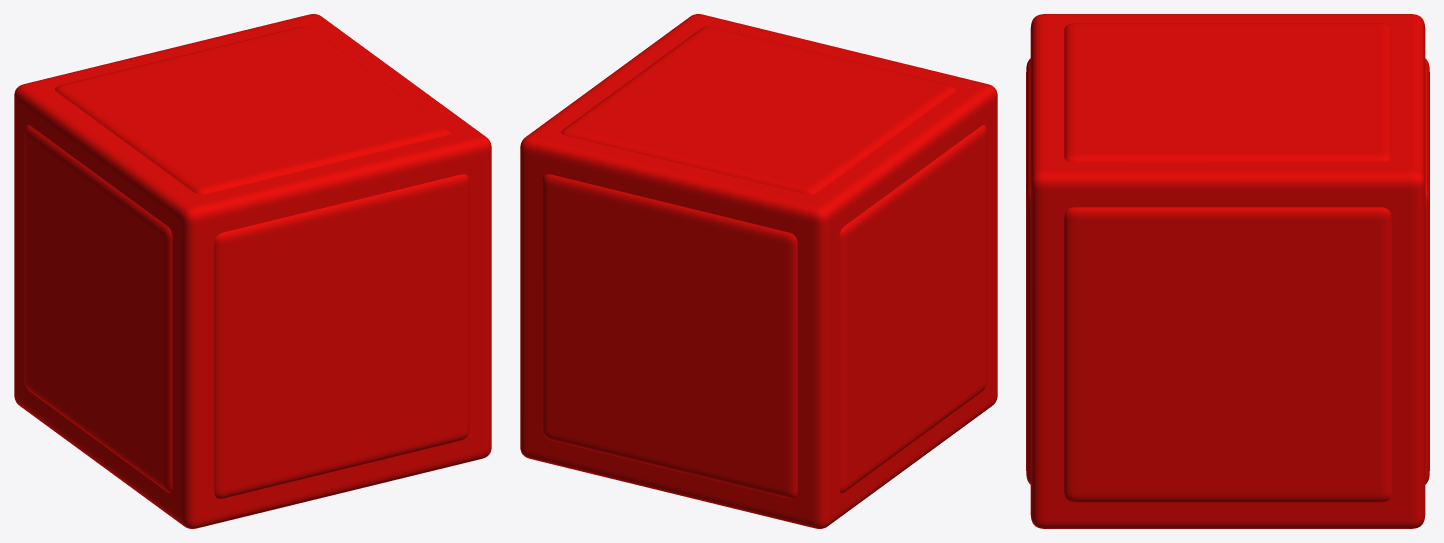
File: animatedBox.glb
3 views of the same model, side by side, from view 1: azimuth 30°, elevation 25°; view 2: azimuth 150°, elevation 25°; view 3: azimuth 270°, elevation 25° (orthographic). The views are drawn at different scales.
Visible parts, largest first — view 1: Cube.000, Cube.001; view 2: Cube.000, Cube.001; view 3: Cube.000, Cube.001.
Part boxes in pixels (x1,y1,x2,y2): Cube.000: [14, 14, 491, 372]; Cube.001: [14, 247, 491, 528]; Cube.000: [520, 14, 997, 372]; Cube.001: [520, 247, 997, 528]; Cube.000: [1026, 14, 1429, 357]; Cube.001: [1026, 335, 1429, 528].
Bounding box in the file's own units: 2.05 × 2.04 × 2.05.
